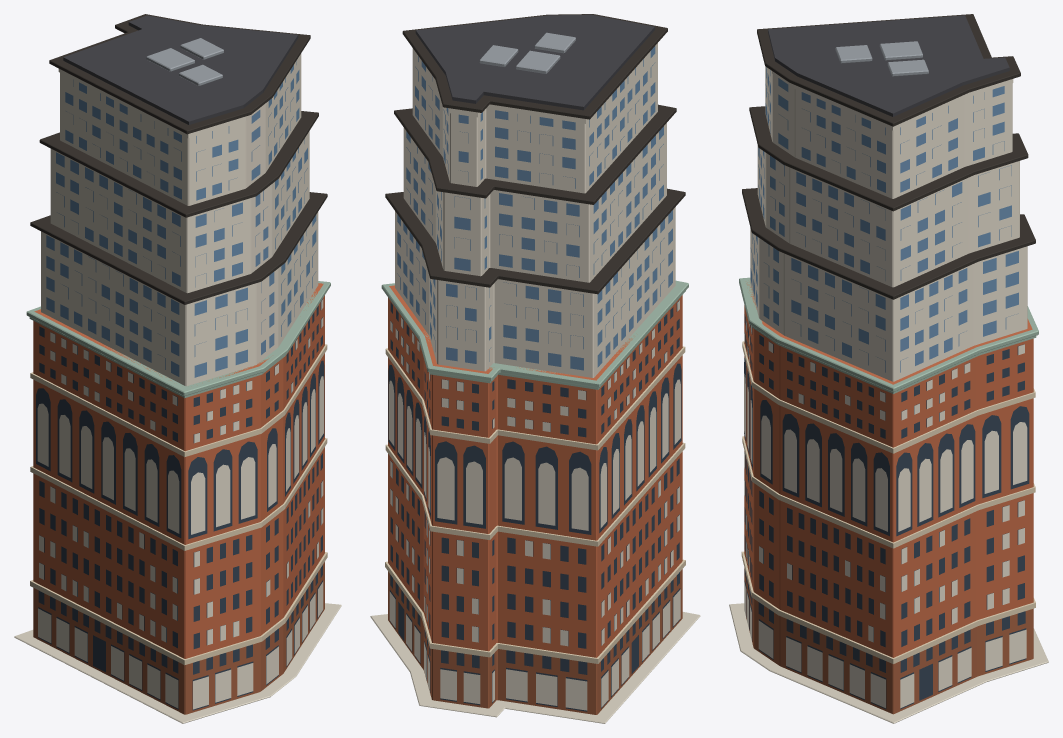
Rendered from 690-market-street.glb.
3 renders of one model, left to right at view 1: azimuth 30°, elevation 25°; view 2: azimuth 150°, elevation 25°; view 3: azimuth 270°, elevation 25°, orthographic. The views are drawn at different scales.
Visible parts, largest first — view 1: 690-market-street_body, 690-market-street_night_glow; view 2: 690-market-street_body, 690-market-street_night_glow; view 3: 690-market-street_body, 690-market-street_night_glow.
Part boxes in pixels (x1,y1,x2,y2): 690-market-street_body: [14, 14, 341, 723]; 690-market-street_night_glow: [37, 56, 323, 709]; 690-market-street_body: [370, 14, 700, 723]; 690-market-street_night_glow: [389, 51, 680, 710]; 690-market-street_body: [729, 14, 1048, 723]; 690-market-street_night_glow: [744, 66, 1027, 708].
Bounding box in the file's own units: 47.19 × 95 × 46.45.
